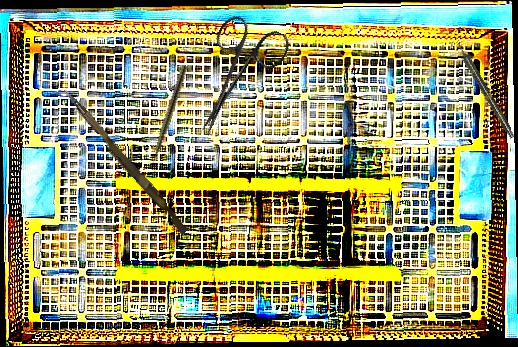Handpiece: (454, 41, 517, 140), (146, 63, 189, 173)
Iris Scissors: (174, 7, 294, 151)
Pusher: (57, 87, 192, 236)
